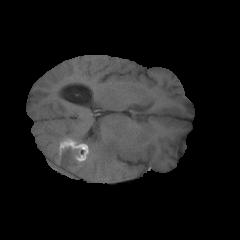glioma: (42, 128, 125, 177)
